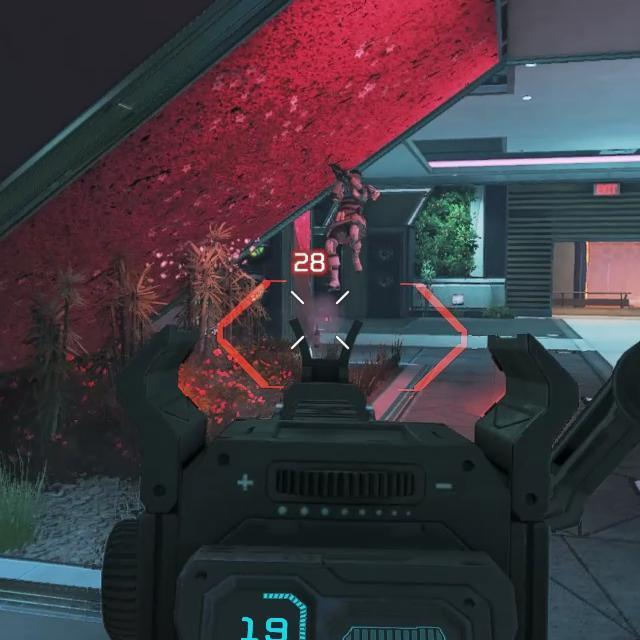avatar: (322, 166, 370, 290)
